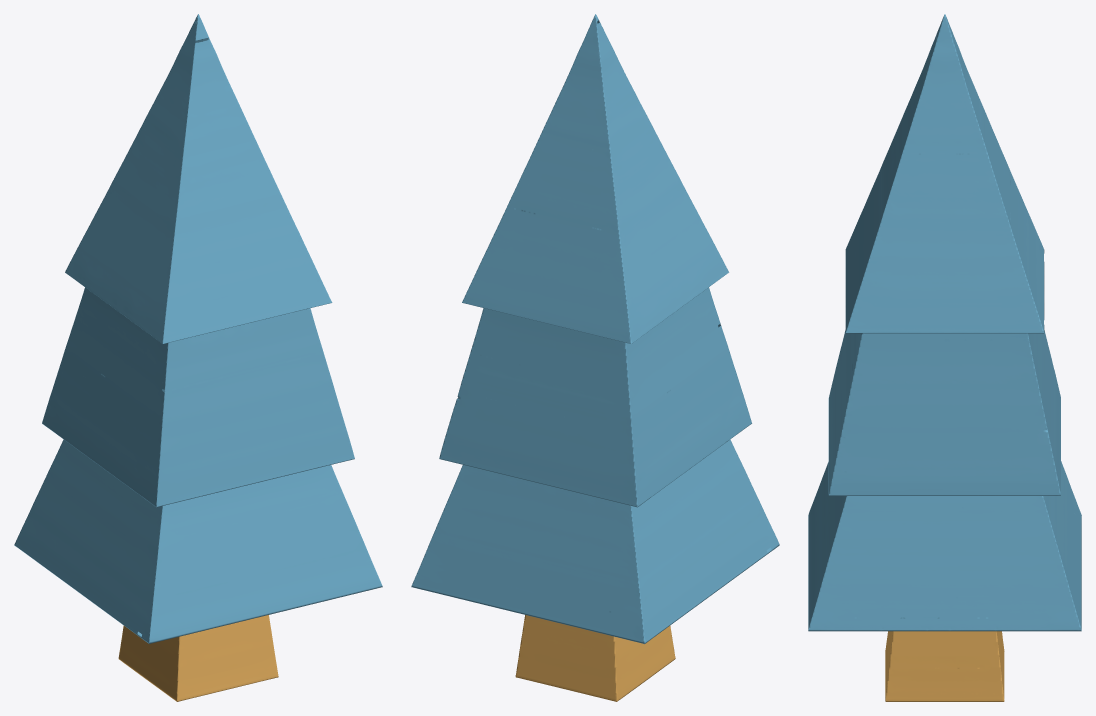
File: pine-tree.glb
The picture shows the model from 3 angles, left to right: view 1: azimuth 30°, elevation 25°; view 2: azimuth 150°, elevation 25°; view 3: azimuth 270°, elevation 25°; orthographic projection.
Parts seen in each view (by area): view 1: Part 01, Part 02; view 2: Part 01, Part 02; view 3: Part 01, Part 02.
Boxes of the visible parts, x1,y1,x2,y2 form: Part 01: (14, 14, 382, 643); Part 02: (118, 615, 278, 701); Part 01: (411, 14, 779, 643); Part 02: (515, 615, 675, 701); Part 01: (808, 14, 1081, 631); Part 02: (885, 631, 1004, 701).
Size of the model in its own units: 0.3739 by 1 by 0.3742.
